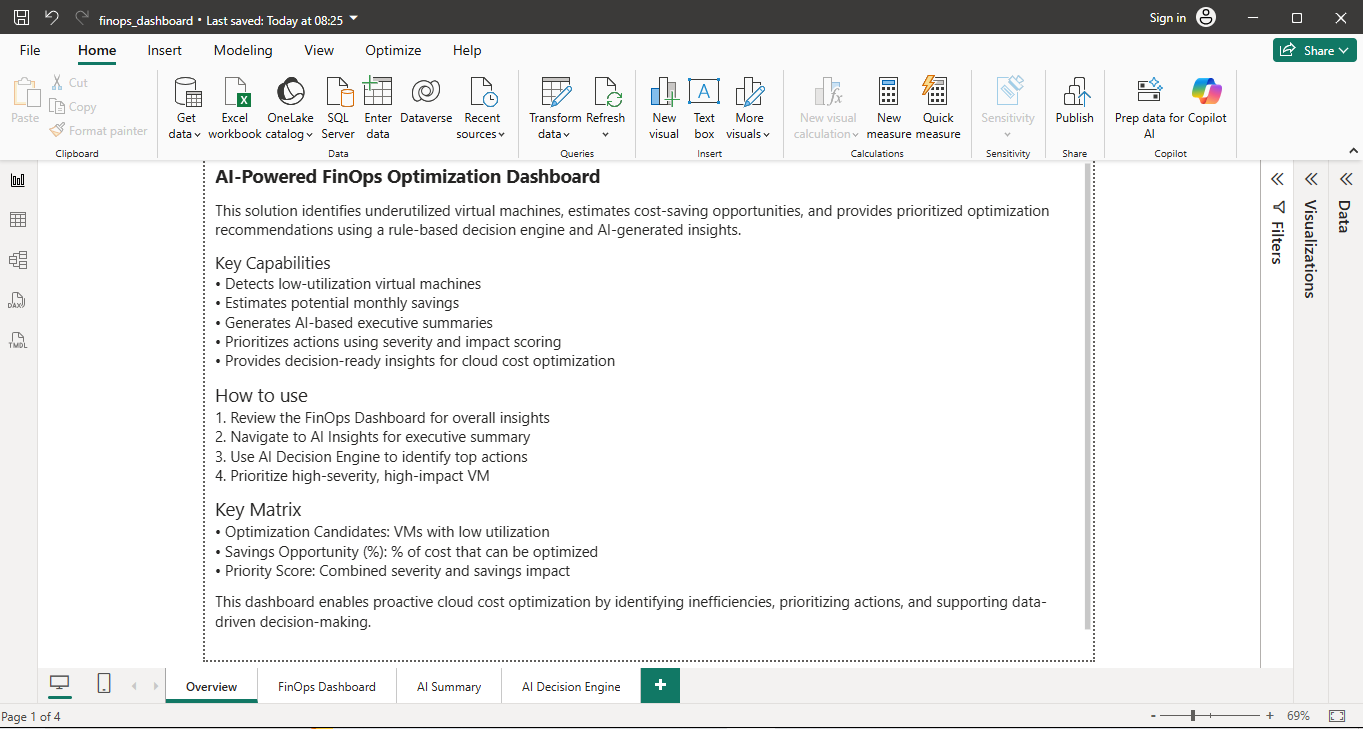

Layout of this report page (visuals, bound fields, positions):
{"tool":"powerbi","page":{"name":"Overview","canvas":[1280,720],"ordinal":0},"visuals":[{"type":"textbox","box":[10.1,0,1270.1,707],"z":0}]}

Visuals, with their boxes on the page's 1280x720 design canvas (x1, y1, x2, y2). These are canvas units, not pixel positions in the 1363x729 screenshot, which may show the page scaled, cropped or inside an application window:
textbox: rect(10, 0, 1280, 707)
